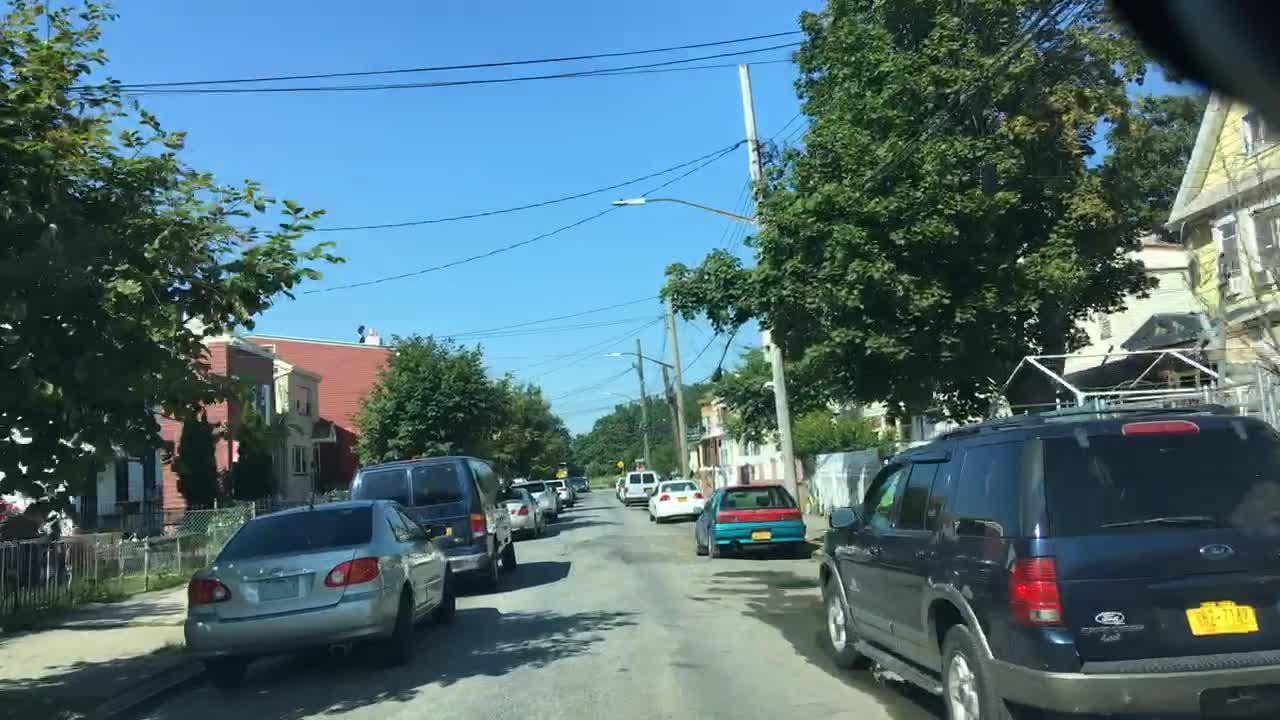ford: (1198, 542, 1239, 565)
